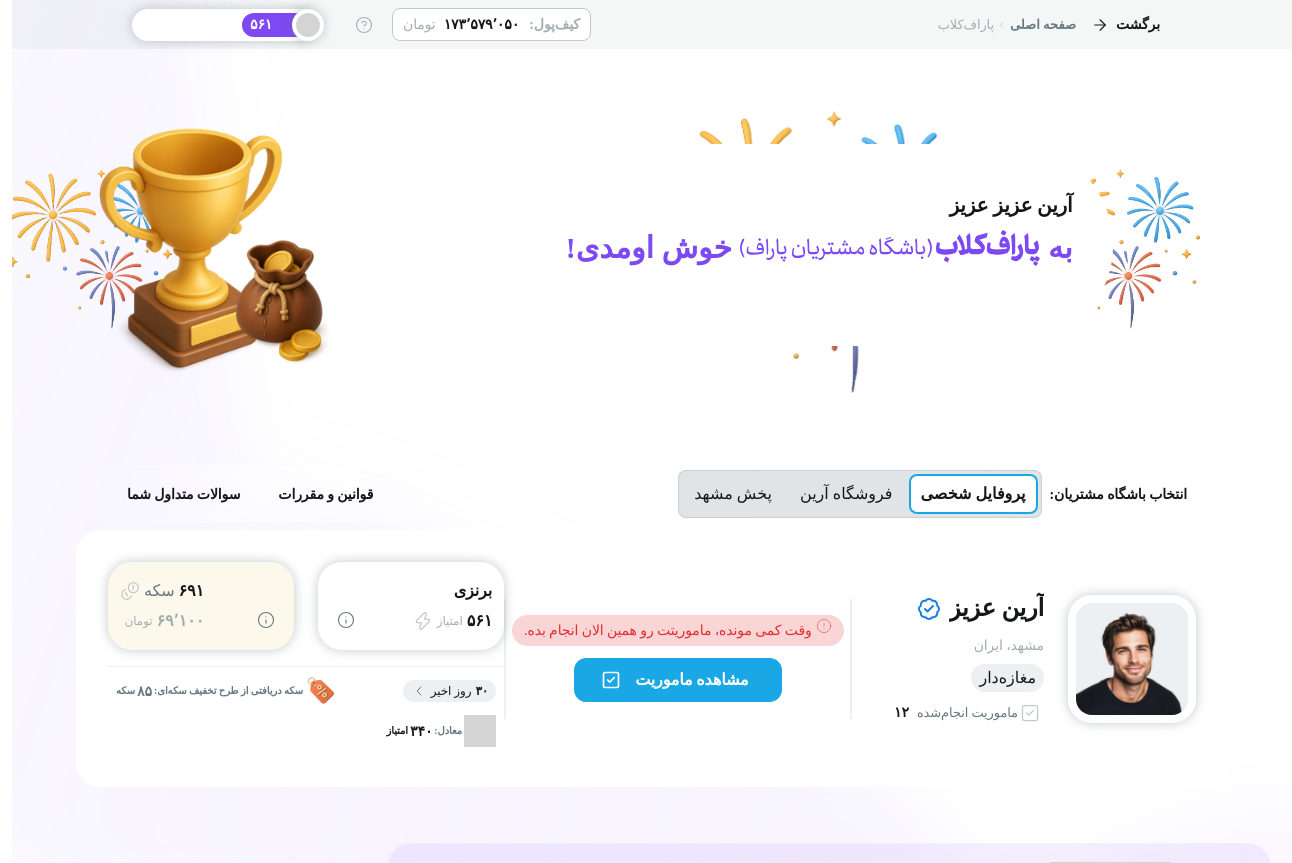
Scenario: ClubDashboard › با انتخاب ویترین، امتیاز و ماموریت‌ها از سرویس‌های ویترین می‌آید
The width and height of the screenshot is (1292, 863).
Click the tab "فروشگاه آرین" at (846, 494), box x1=788 y1=474 x2=904 y2=514
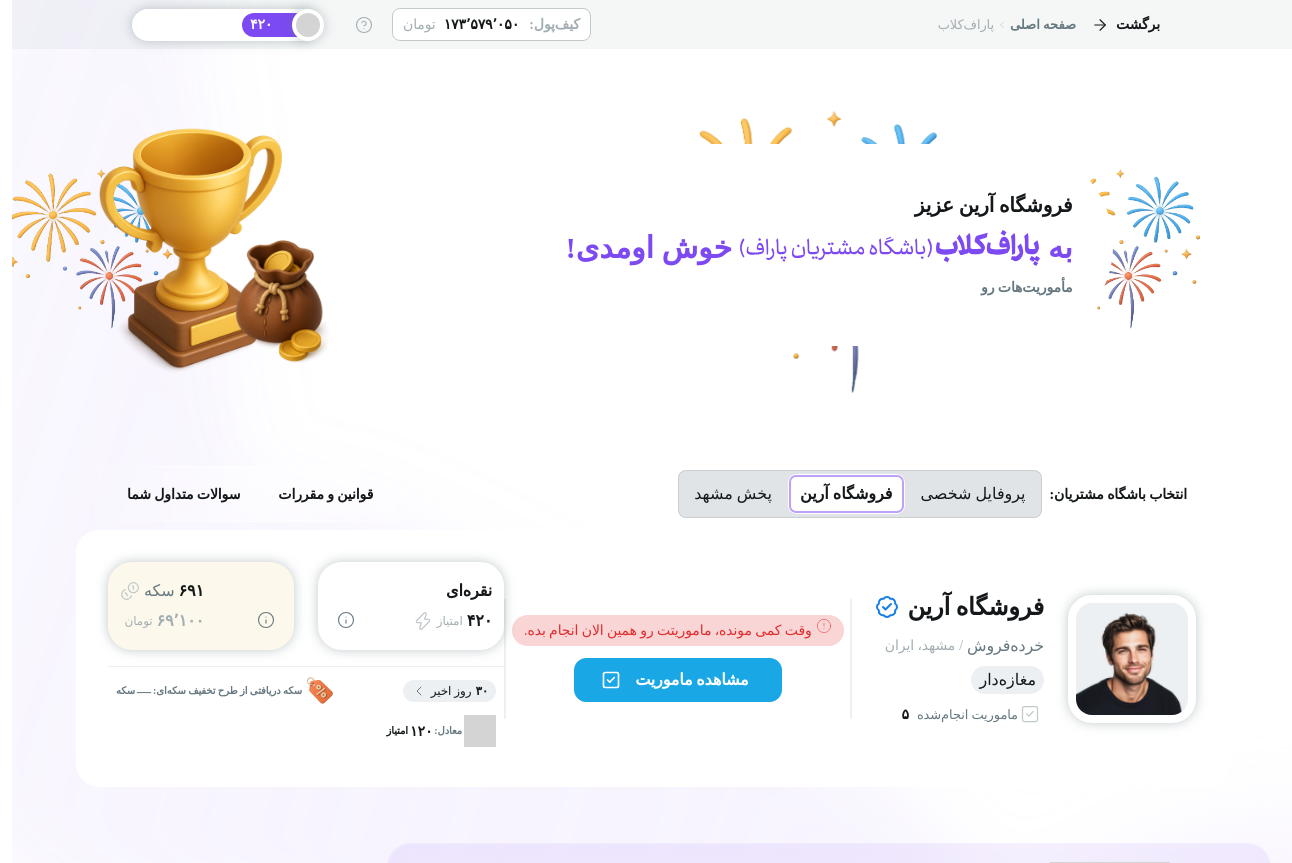
Expected: the text "۵" is shown, x1=902 y1=702 x2=909 y2=727
Expected: the heading "فروشگاه آرین" is shown, x1=907 y1=589 x2=1044 y2=626
